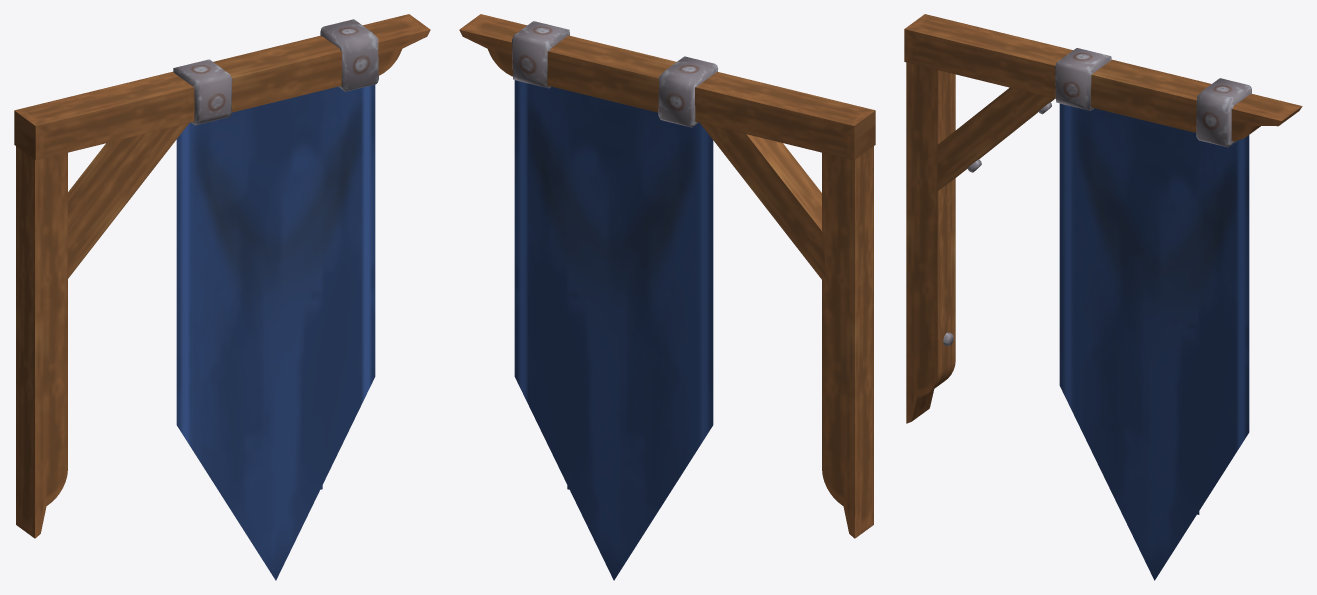
Rendered from banner_2.glb.
The picture shows the model from 3 angles, left to right: view 1: azimuth 30°, elevation 25°; view 2: azimuth 150°, elevation 25°; view 3: azimuth 330°, elevation 25°; orthographic projection. The views are drawn at different scales.
Visible parts, largest first — view 1: Banner_2; view 2: Banner_2; view 3: Banner_2.
Boxes of the visible parts, x1,y1,x2,y2 form: Banner_2: (14,14,430,580); Banner_2: (459,14,875,580); Banner_2: (904,14,1302,580).
Bounding box in the file's own units: 1.61 × 2.08 × 0.1906.
Materials: 3 (3 with a texture image).
